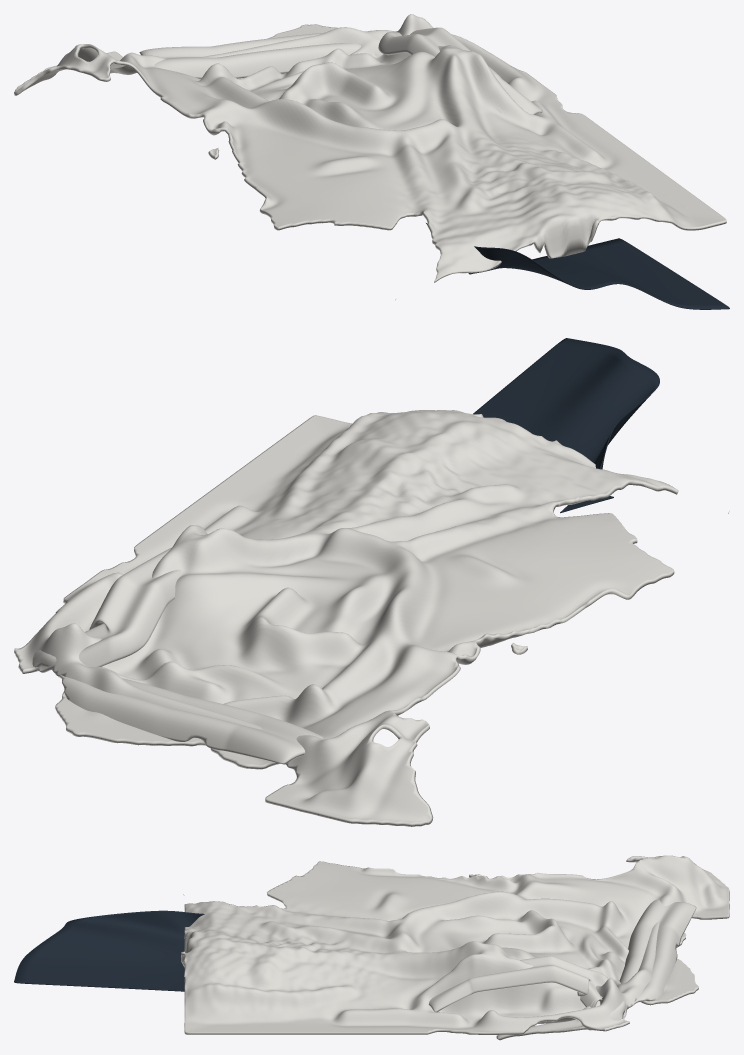
The picture shows the model from 3 angles, top to bottom: view 1: azimuth 30°, elevation 25°; view 2: azimuth 150°, elevation 25°; view 3: azimuth 270°, elevation 25°; orthographic projection. The views are drawn at different scales.
Parts seen in each view (by area): view 1: bed_0_AUTHORED_completed_duvet_photo_fold_ridges, SOURCE_navy_visible_headcloth_arc_crosssection_inferred, bed_0_AUTHORED_folded_duvet_edge_1, bed_0_AUTHORED_folded_duvet_edge_0; view 2: bed_0_AUTHORED_completed_duvet_photo_fold_ridges, SOURCE_navy_visible_headcloth_arc_crosssection_inferred, bed_0_AUTHORED_folded_duvet_edge_1, bed_0_AUTHORED_folded_duvet_edge_0; view 3: bed_0_AUTHORED_completed_duvet_photo_fold_ridges, SOURCE_navy_visible_headcloth_arc_crosssection_inferred, bed_0_AUTHORED_folded_duvet_edge_0, bed_0_AUTHORED_folded_duvet_edge_1.
Part boxes in pixels (bbox=[...]): bed_0_AUTHORED_completed_duvet_photo_fold_ridges: bbox=[14, 14, 726, 300]; SOURCE_navy_visible_headcloth_arc_crosssection_inferred: bbox=[426, 223, 729, 309]; bed_0_AUTHORED_folded_duvet_edge_1: bbox=[139, 32, 382, 78]; bed_0_AUTHORED_folded_duvet_edge_0: bbox=[378, 27, 542, 114]; bed_0_AUTHORED_completed_duvet_photo_fold_ridges: bbox=[14, 410, 729, 826]; SOURCE_navy_visible_headcloth_arc_crosssection_inferred: bbox=[473, 338, 659, 513]; bed_0_AUTHORED_folded_duvet_edge_1: bbox=[55, 674, 323, 764]; bed_0_AUTHORED_folded_duvet_edge_0: bbox=[32, 547, 182, 669]; bed_0_AUTHORED_completed_duvet_photo_fold_ridges: bbox=[181, 855, 729, 1034]; SOURCE_navy_visible_headcloth_arc_crosssection_inferred: bbox=[14, 910, 204, 991]; bed_0_AUTHORED_folded_duvet_edge_0: bbox=[428, 955, 626, 1040]; bed_0_AUTHORED_folded_duvet_edge_1: bbox=[619, 899, 696, 1008].
Bounding box in the file's own units: 1.15 × 0.2465 × 2.12.
